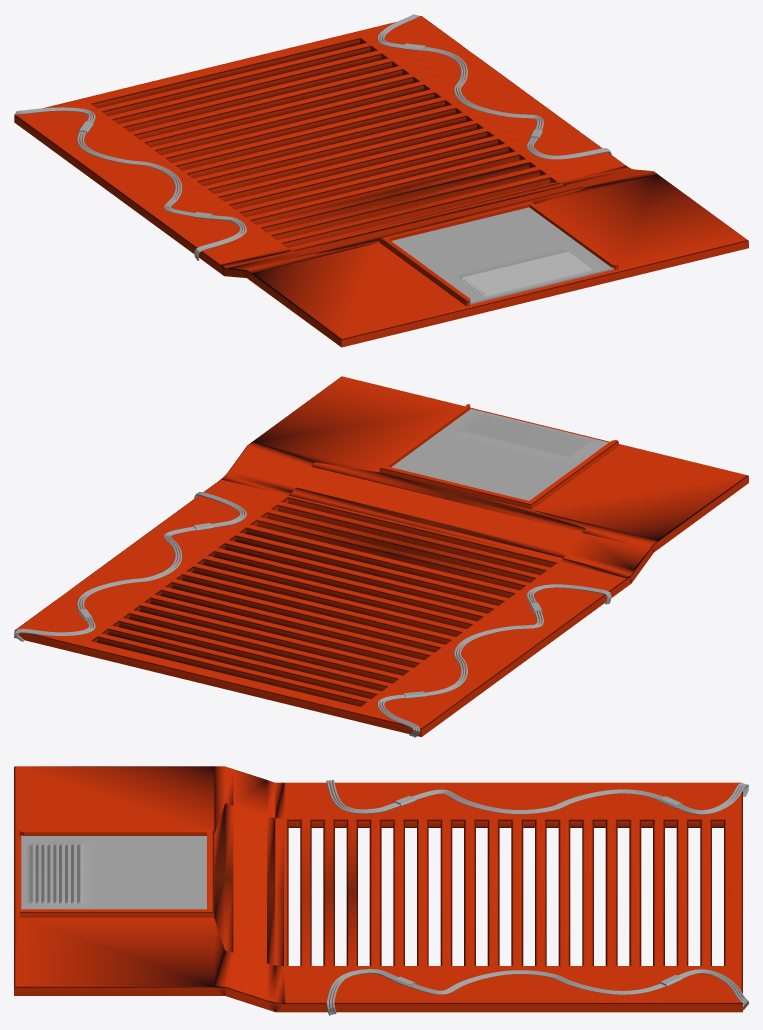
File: HazardFloor_MDL.fbx
The picture shows the model from 3 angles, top to bottom: view 1: azimuth 30°, elevation 25°; view 2: azimuth 150°, elevation 25°; view 3: azimuth 270°, elevation 25°; orthographic projection. The views are drawn at different scales.
Visible parts, largest first — view 1: HazardFloor_GEO, HazardCover_GEO, HazardWires_GEO; view 2: HazardFloor_GEO, HazardCover_GEO, HazardWires_GEO; view 3: HazardFloor_GEO, HazardCover_GEO, HazardWires_GEO.
Boxes of the visible parts, box(x1,y1,x2,y2) form: HazardFloor_GEO: box(14, 16, 748, 347); HazardCover_GEO: box(391, 207, 613, 304); HazardWires_GEO: box(14, 14, 611, 260); HazardFloor_GEO: box(14, 376, 748, 736); HazardCover_GEO: box(391, 408, 608, 500); HazardWires_GEO: box(14, 492, 611, 737); HazardFloor_GEO: box(14, 766, 742, 1012); HazardCover_GEO: box(21, 835, 206, 909); HazardWires_GEO: box(326, 780, 748, 1015).
Bounding box in the file's own units: 3725 × 257 × 5133.
